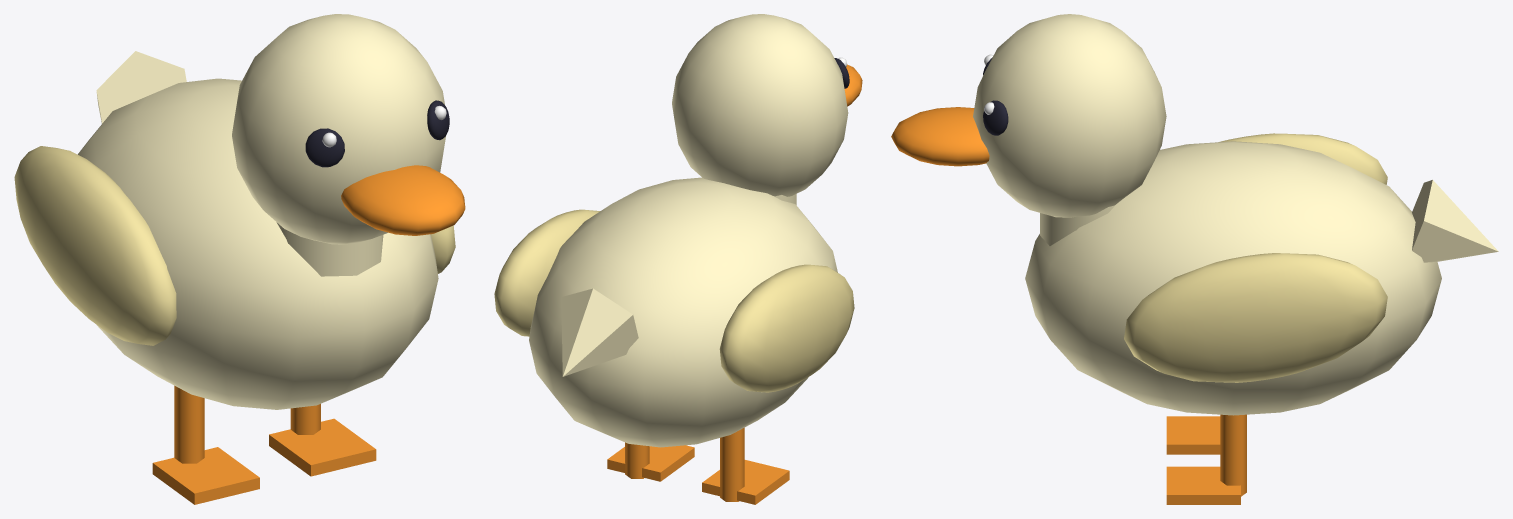
File: animal_duck.glb
The picture shows the model from 3 angles, left to right: view 1: azimuth 30°, elevation 25°; view 2: azimuth 150°, elevation 25°; view 3: azimuth 270°, elevation 25°; orthographic projection. The views are drawn at different scales.
Visible parts, largest first — view 1: body; view 2: body; view 3: body.
Part boxes in pixels (x1,y1,x2,y2): body: (14, 14, 465, 504); body: (494, 14, 862, 504); body: (891, 14, 1498, 504).
Size of the model in its own units: 0.48 by 0.66 by 0.8164.
